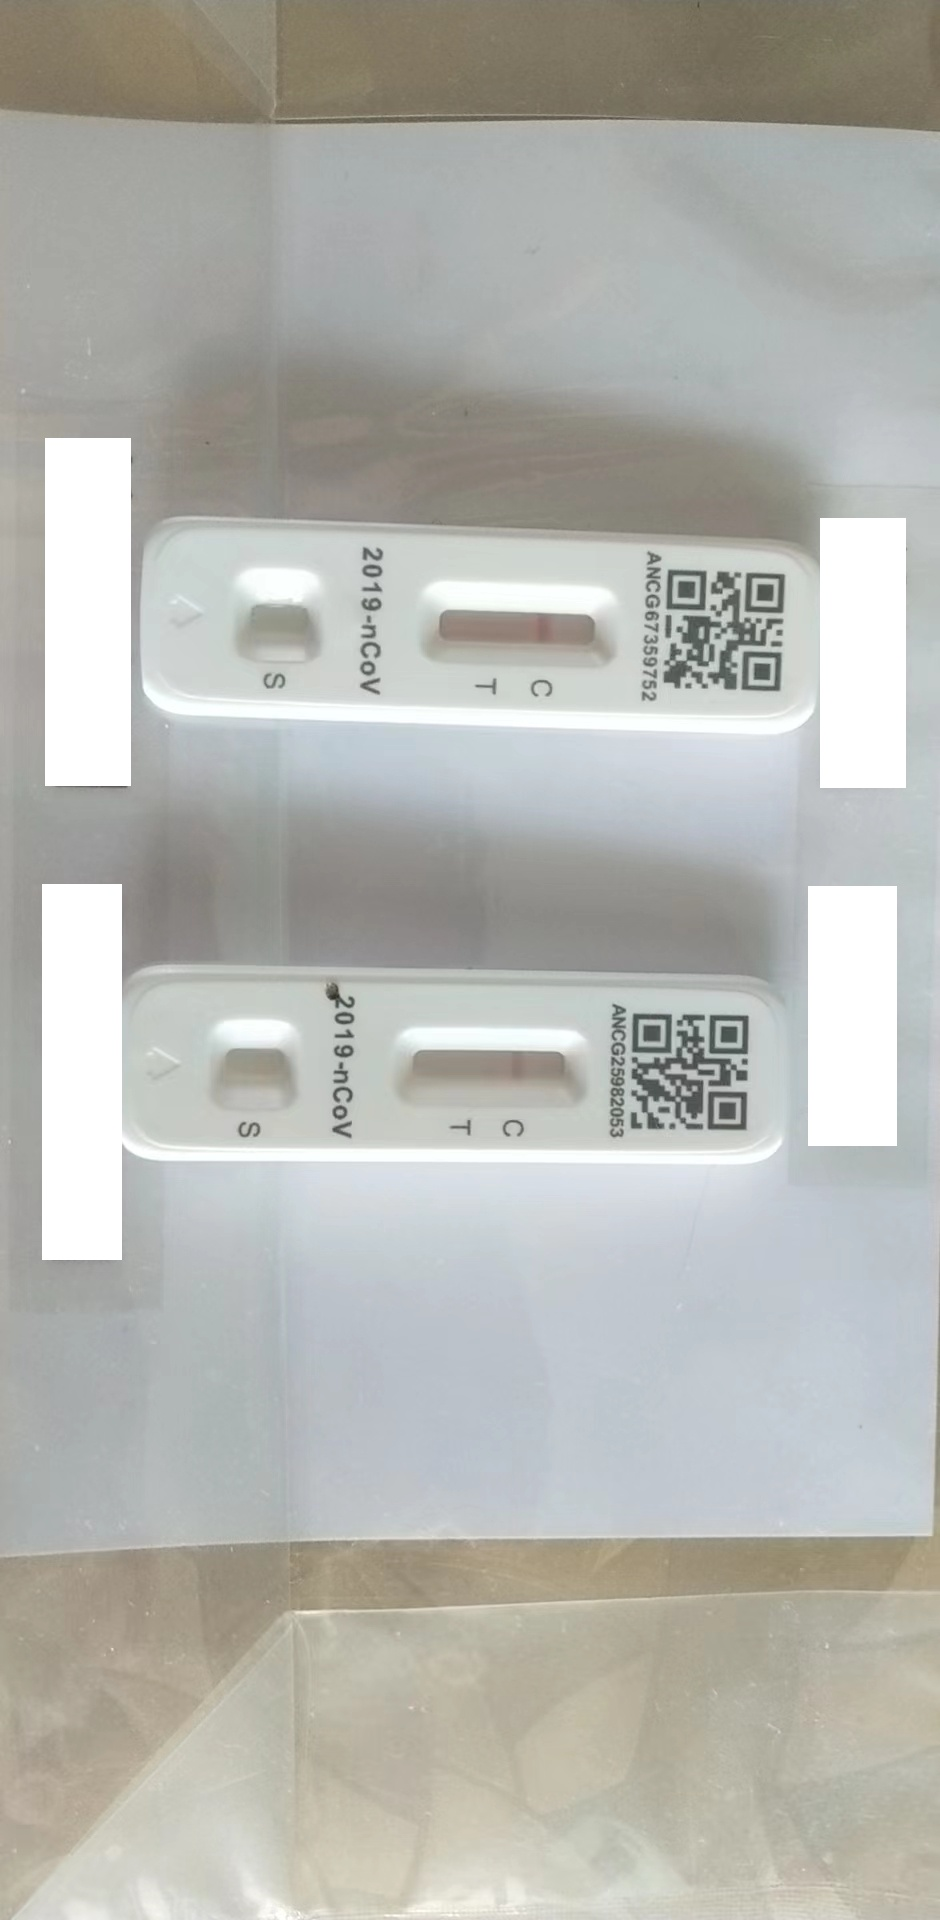negative: (386, 1026, 600, 1109), (412, 585, 625, 662)
